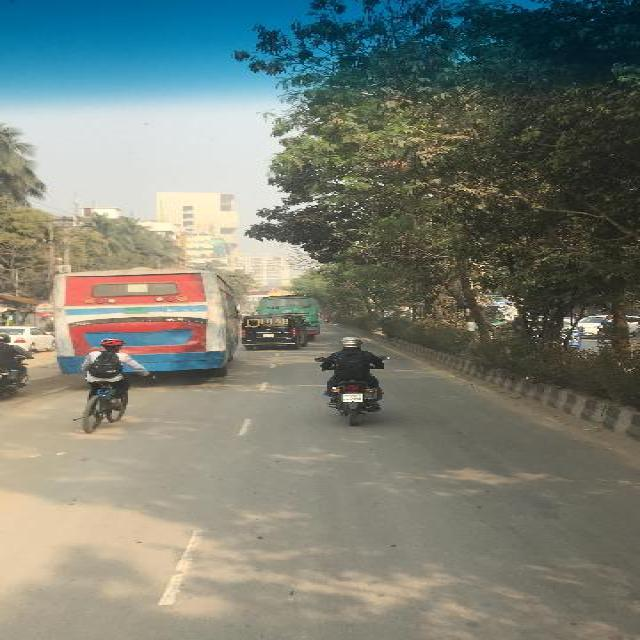bicycle: (78, 336, 156, 430)
bus: (43, 268, 241, 376), (260, 295, 320, 335)
car: (0, 325, 55, 353), (579, 314, 637, 334)
minivan: (512, 314, 580, 348)
motorbike: (318, 337, 393, 429), (0, 334, 32, 398)
rickshaw: (597, 312, 626, 344)
van: (240, 314, 308, 348)
